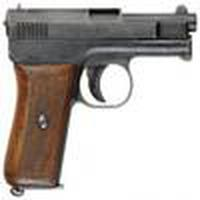gun: (1, 4, 200, 194)
